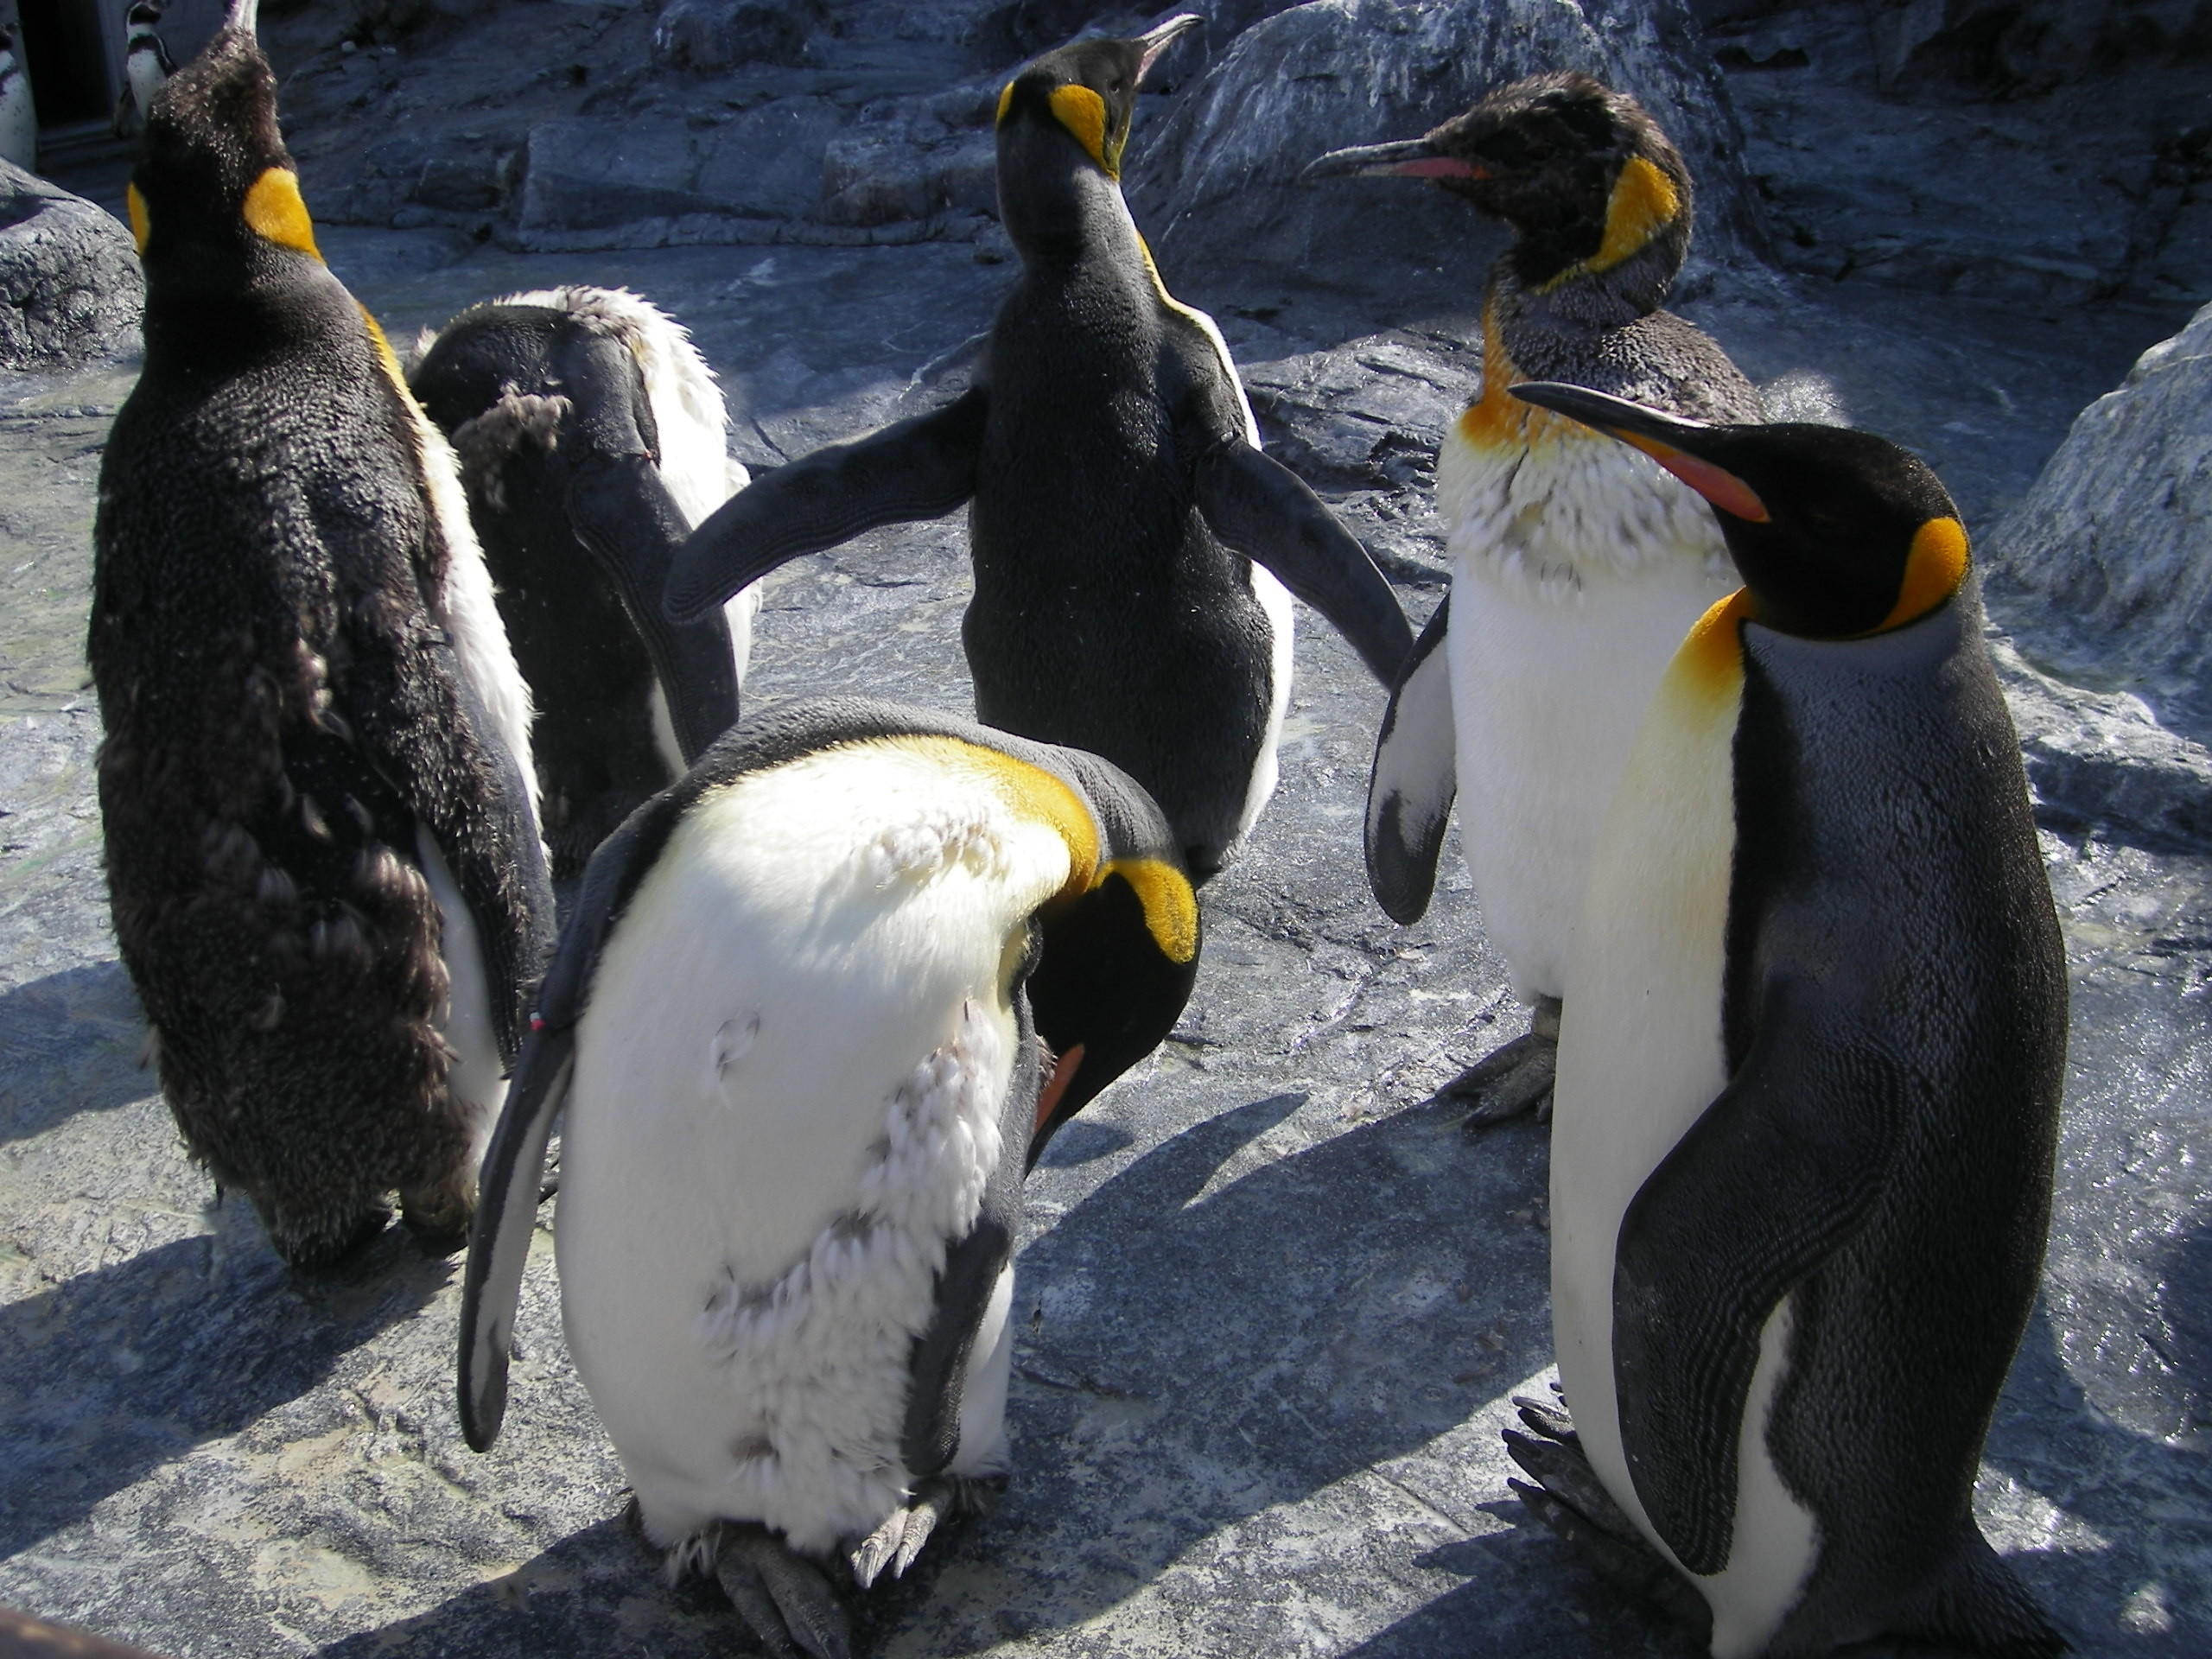penguin: (1494, 380, 2113, 1659), (488, 680, 1198, 1659), (56, 10, 568, 1256), (683, 61, 1440, 868), (1278, 61, 1754, 1150)
